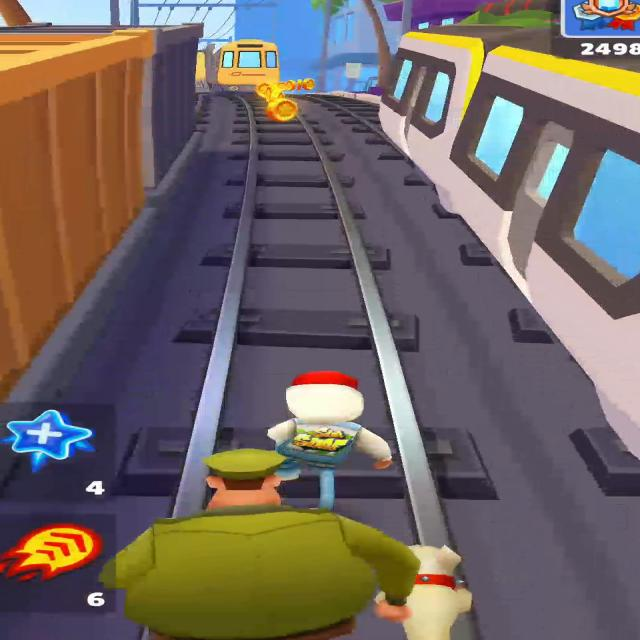climber: (195, 51, 209, 92)
police: (99, 449, 419, 640)
train: (379, 22, 639, 458), (0, 23, 202, 399), (205, 39, 279, 92)
